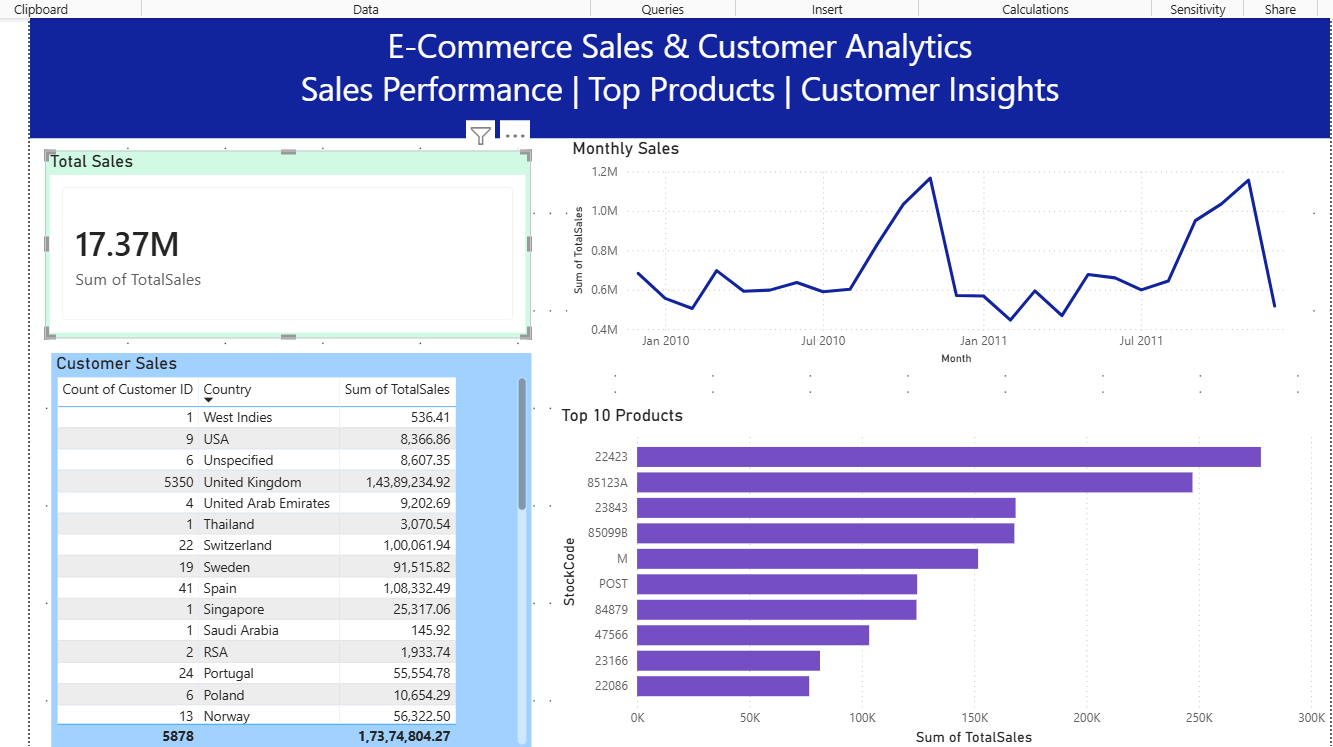

What the dashboard file says about the page in this screenshot:
{"tool":"powerbi","page":{"name":"Page 1","canvas":[1280,720],"ordinal":0},"visuals":[{"type":"cardVisual","title":"Total Sales","fields":{"Data":["Sum(cleaned_retail_data.TotalSales)"]},"box":[0,118.3,478.6,185],"z":0},{"type":"lineChart","title":" Monthly Sales","fields":{"Category":["cleaned_retail_data.Month"],"Y":["Sum(cleaned_retail_data.TotalSales)"]},"box":[528.7,118.3,723.5,228.2],"z":1000},{"type":"clusteredBarChart","title":"Top 10 Products","fields":{"Category":["cleaned_retail_data.StockCode"],"Y":["Sum(cleaned_retail_data.TotalSales)"]},"box":[517.6,379.8,762.4,340.9],"z":2000},{"type":"tableEx","title":"Customer Sales","fields":{"Values":["Count(cleaned_retail_data.Customer ID)","cleaned_retail_data.Country","Sum(cleaned_retail_data.TotalSales)"]},"box":[20.9,329.7,473,391],"z":3000},{"type":"textbox","box":[0,0,1280,118.3],"z":4000}]}

Visuals, with their boxes on the page's 1280x720 design canvas (x1, y1, x2, y2). These are canvas units, not pixel positions in the 1333x747 screenshot, which may show the page scaled, cropped or inside an application window:
"Total Sales" cardVisual: pyautogui.locateOnScreen(0, 118, 479, 303)
" Monthly Sales" lineChart: pyautogui.locateOnScreen(529, 118, 1252, 346)
"Top 10 Products" clusteredBarChart: pyautogui.locateOnScreen(518, 380, 1280, 721)
"Customer Sales" tableEx: pyautogui.locateOnScreen(21, 330, 494, 721)
textbox: pyautogui.locateOnScreen(0, 0, 1280, 118)
